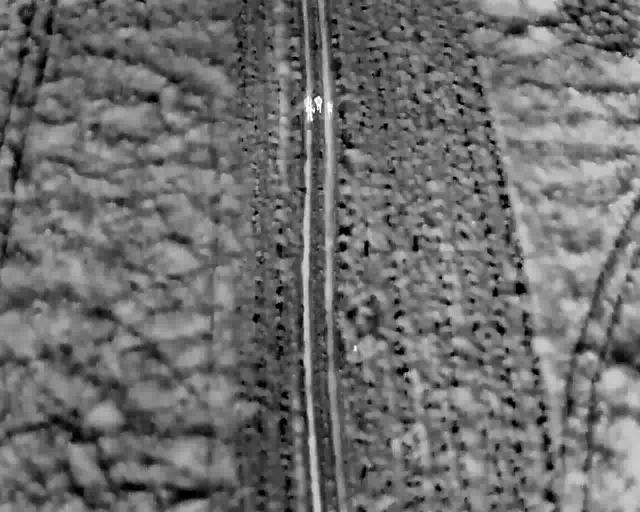person: (324, 98, 336, 117), (312, 95, 324, 114), (302, 94, 314, 113), (305, 103, 316, 122)
